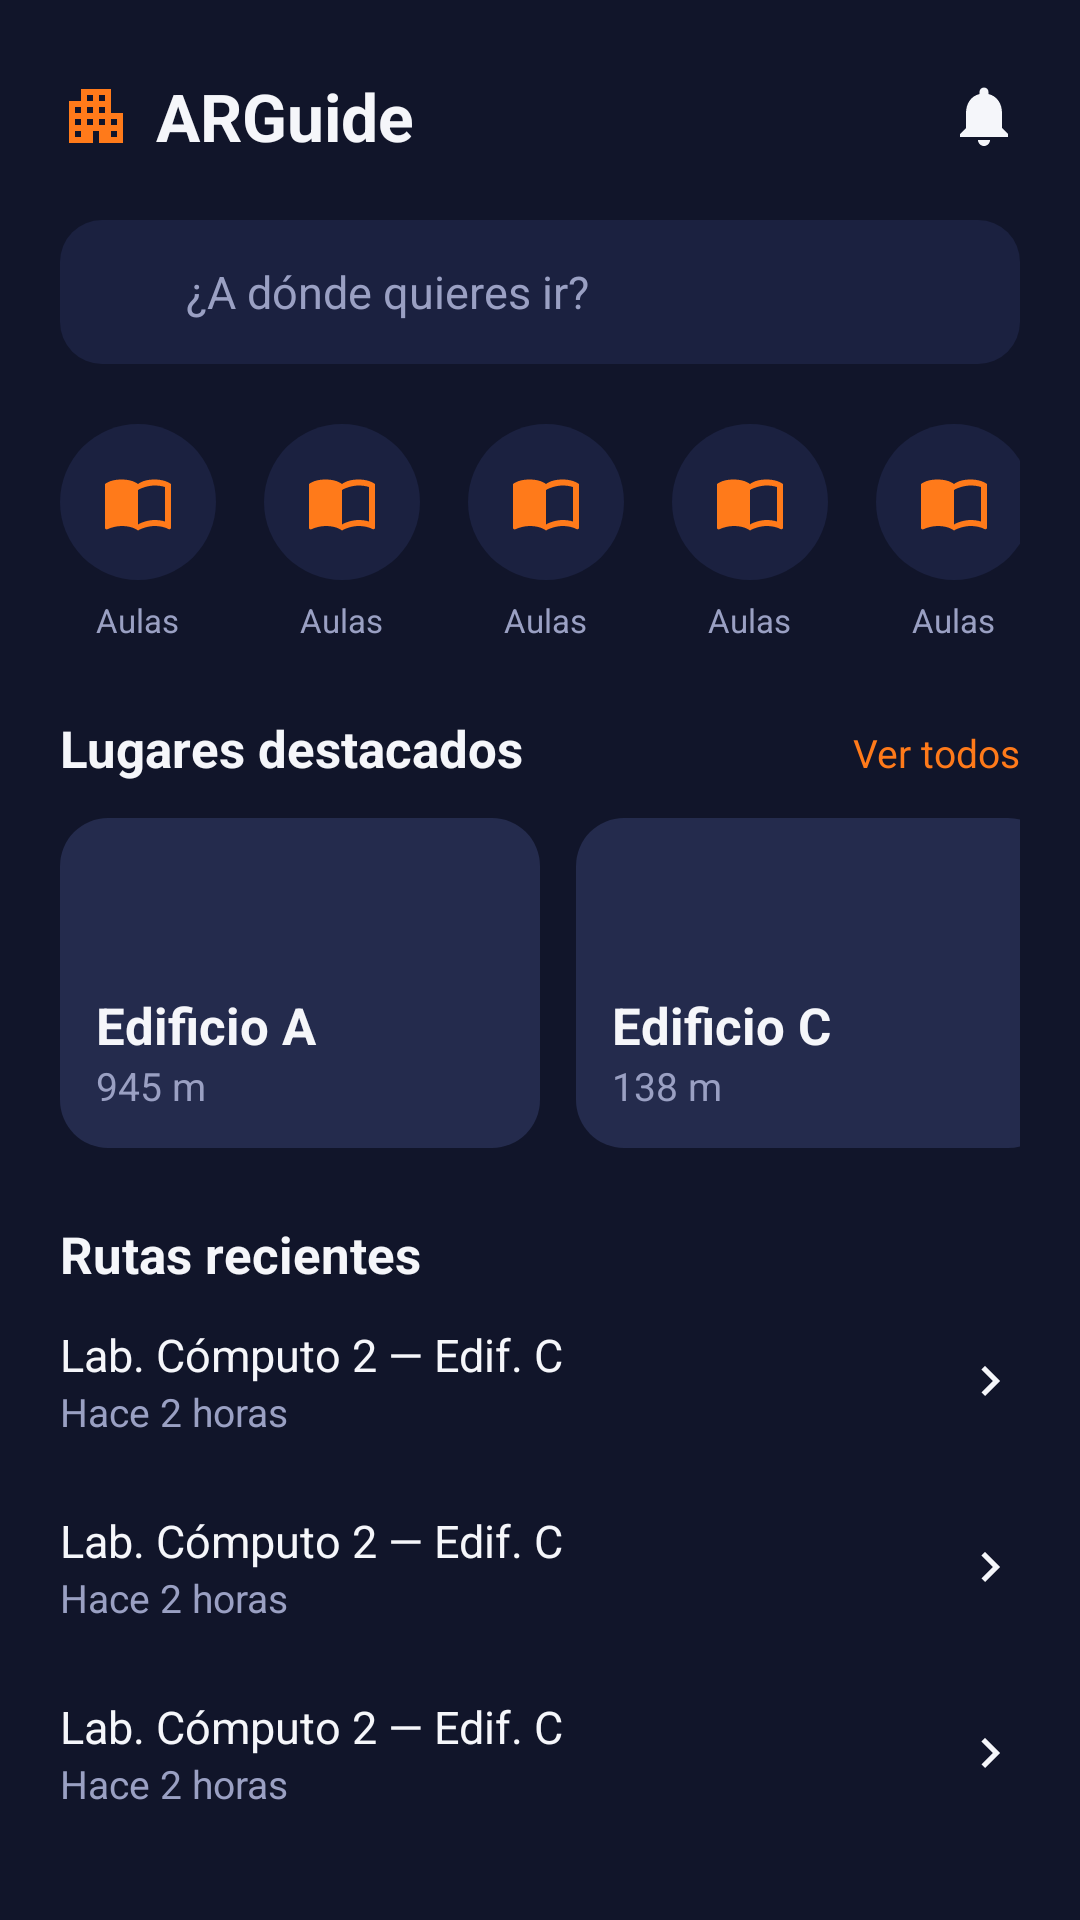

Where icons sit on this 1080px×1920px app screen, as (x1, y1, x2, y2):
book: (105, 479, 171, 531), (309, 479, 375, 531), (513, 479, 579, 531), (717, 479, 783, 531), (921, 479, 987, 531)
chevron right: (981, 1366, 1000, 1396), (981, 1552, 1000, 1582), (981, 1738, 1000, 1768)
Notificaciones: (960, 87, 1008, 146)
